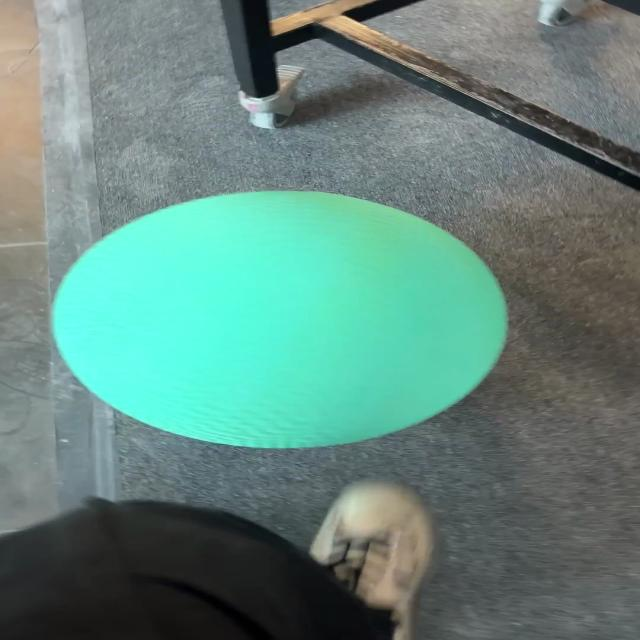Algae: (49, 190, 510, 450)
